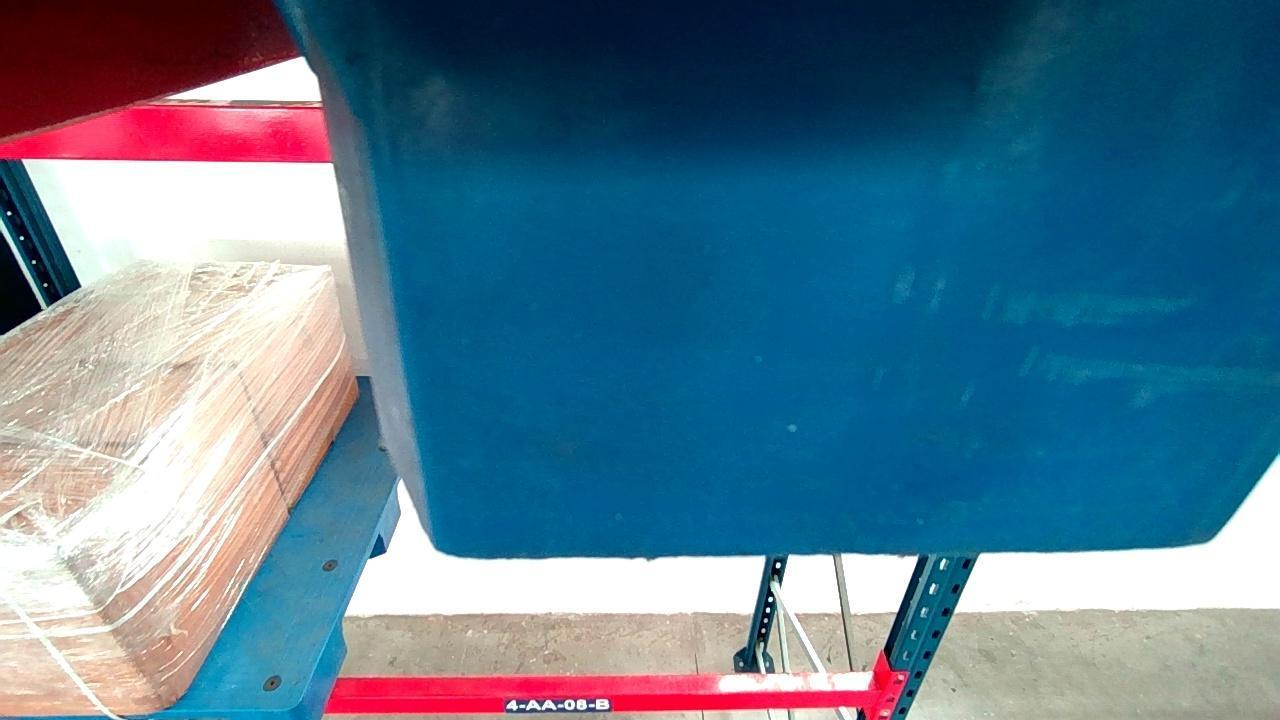h_rack: (324, 686, 879, 712)
